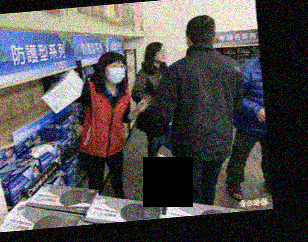with_mask: (104, 61, 127, 84)
without_mask: (154, 48, 167, 62)
